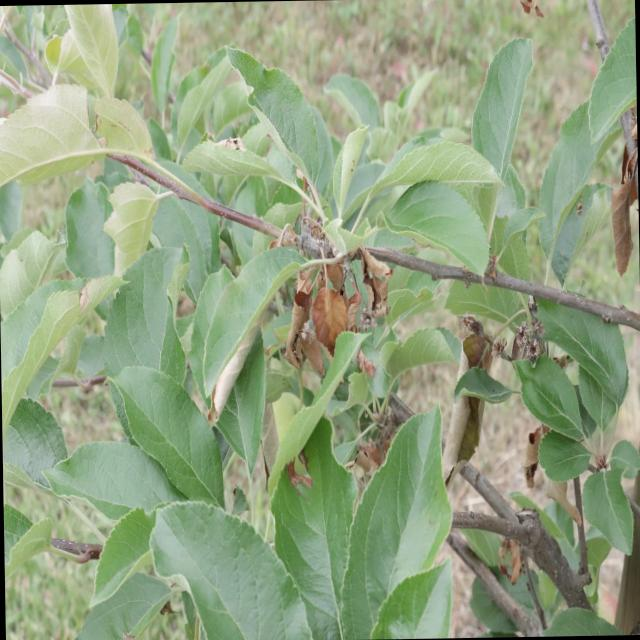-FireBlight-: (304, 238, 394, 334), (608, 140, 639, 279), (512, 424, 540, 484), (492, 536, 518, 577)
